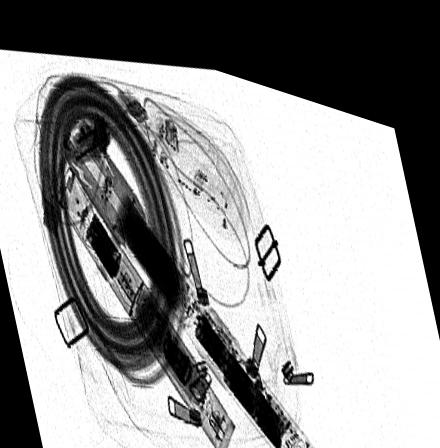Baton: (59, 110, 324, 448), (56, 159, 236, 448)
